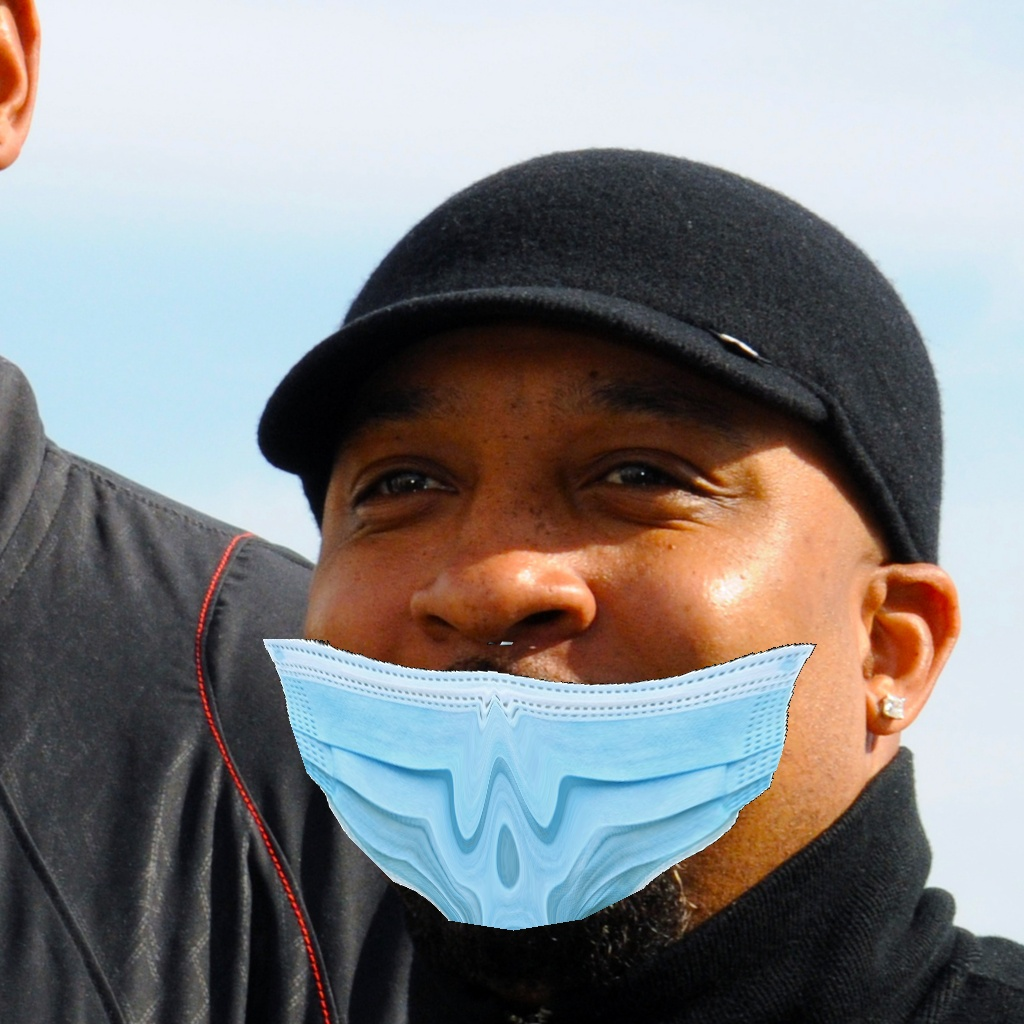mascarilla_mal_puesta: (287, 385, 787, 913)
